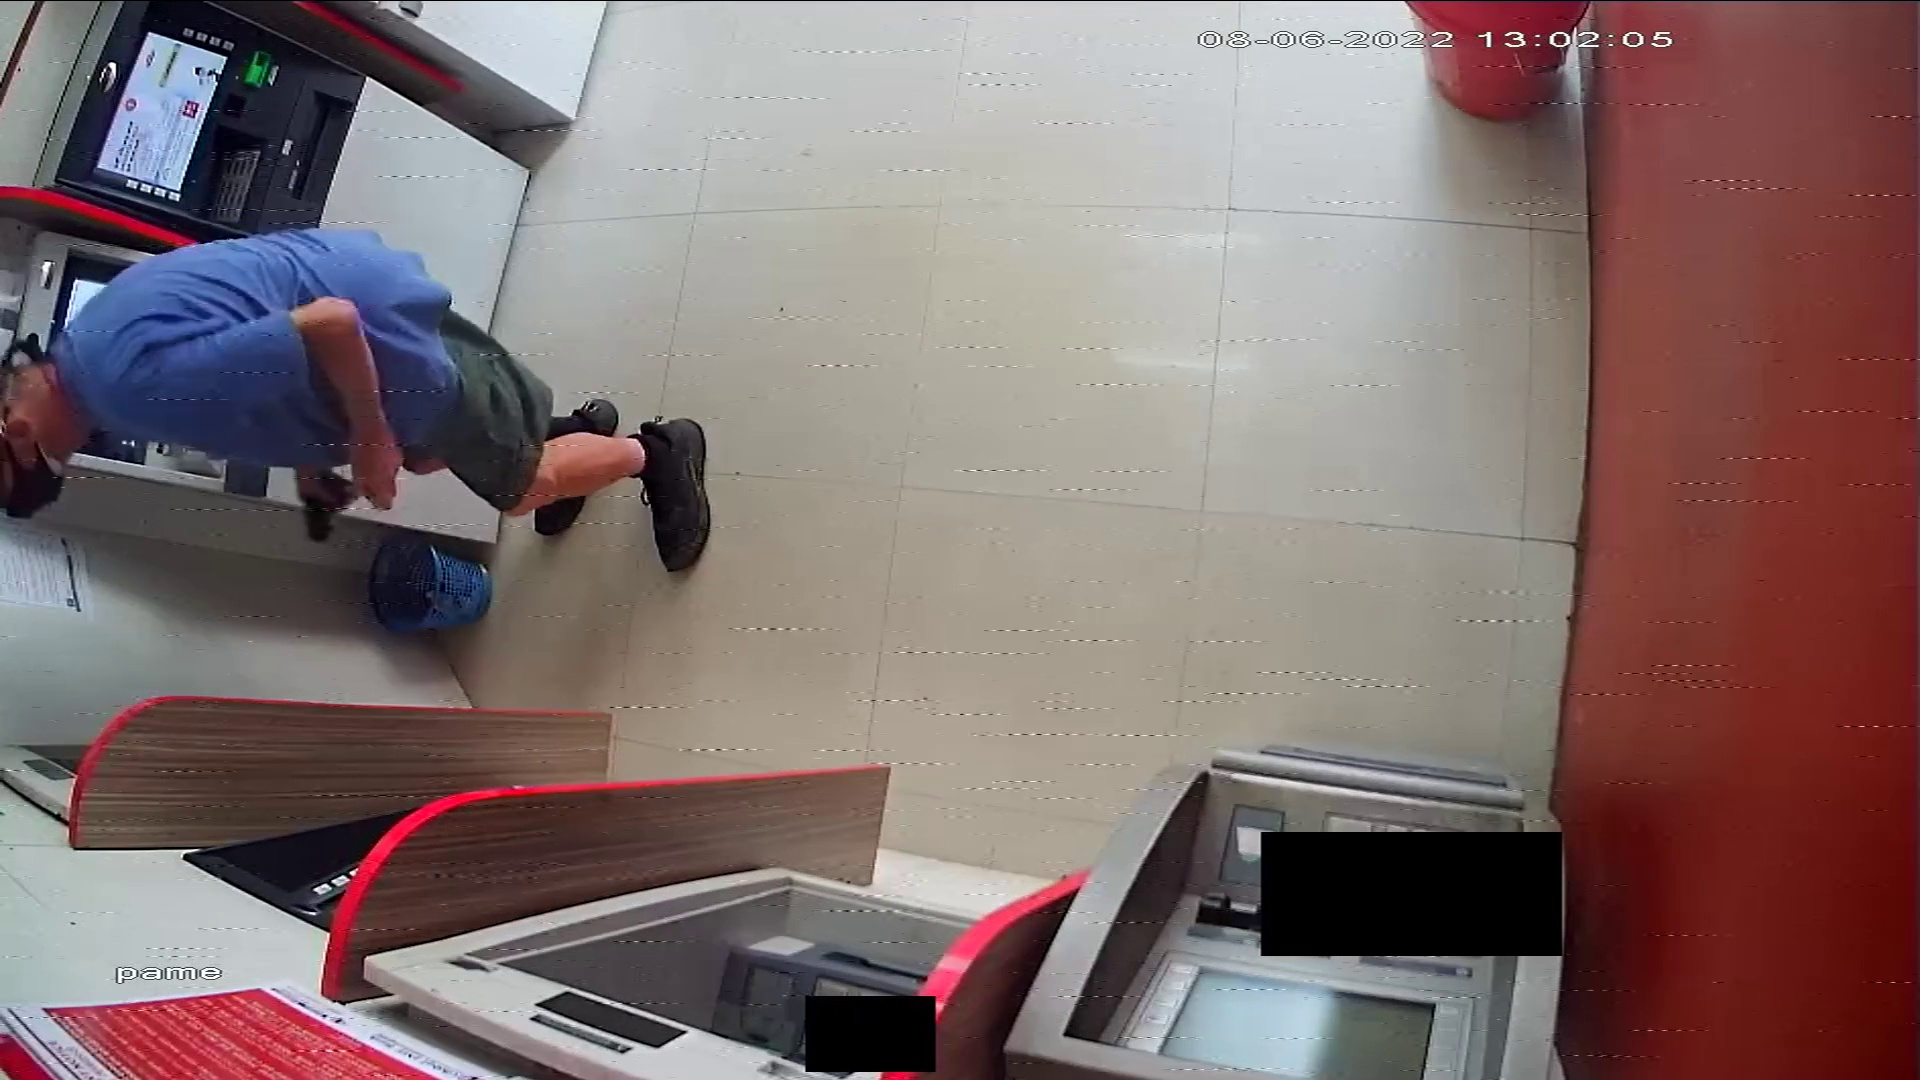person: (1, 225, 714, 568)
